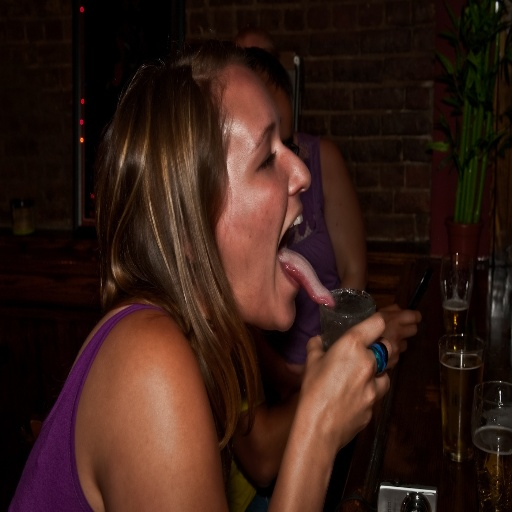hand: (302, 312, 394, 453), (377, 304, 423, 370)
